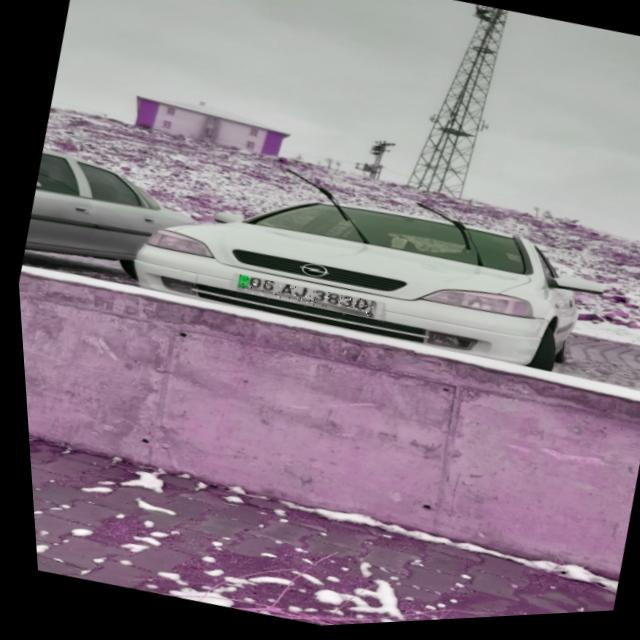license_plate: (232, 272, 372, 327)
